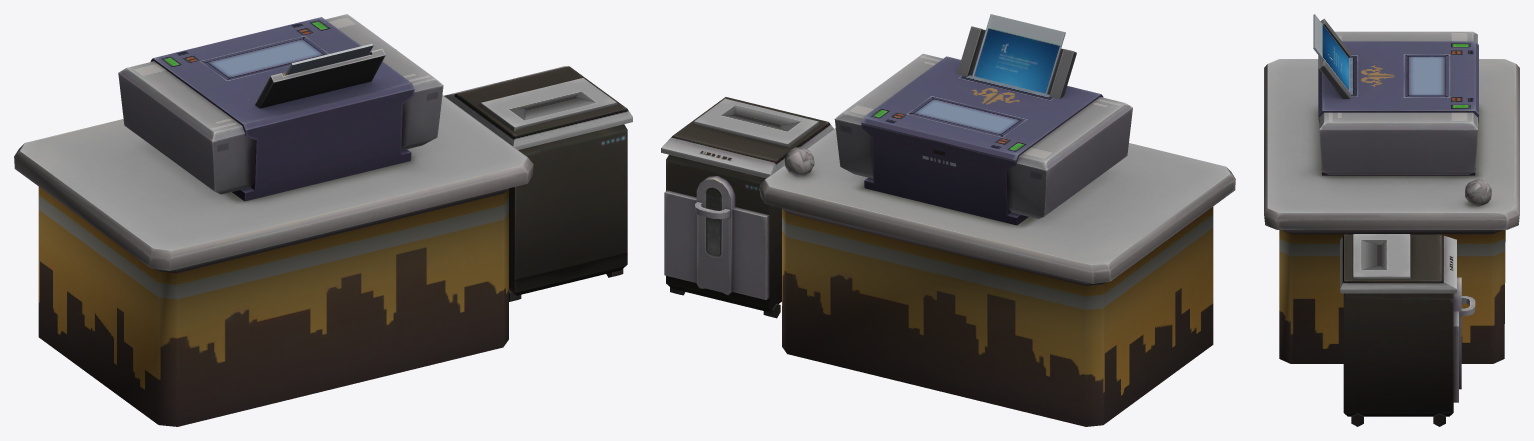
Rendered from furn_syp2017_table_001.gltf.
3 views of the same model, side by side, from view 1: azimuth 30°, elevation 25°; view 2: azimuth 150°, elevation 25°; view 3: azimuth 270°, elevation 25° (orthographic). The views are drawn at different scales.
Visible parts, largest first — view 1: syp2017_table_001; view 2: syp2017_table_001; view 3: syp2017_table_001.
Boxes of the visible parts, <box> form: syp2017_table_001: <box>14,14,632,426</box>; syp2017_table_001: <box>661,14,1235,426</box>; syp2017_table_001: <box>1264,14,1519,426</box>.
Size of the model in its own units: 1.18 by 0.6899 by 0.5981.
1 material, 1 textured.
